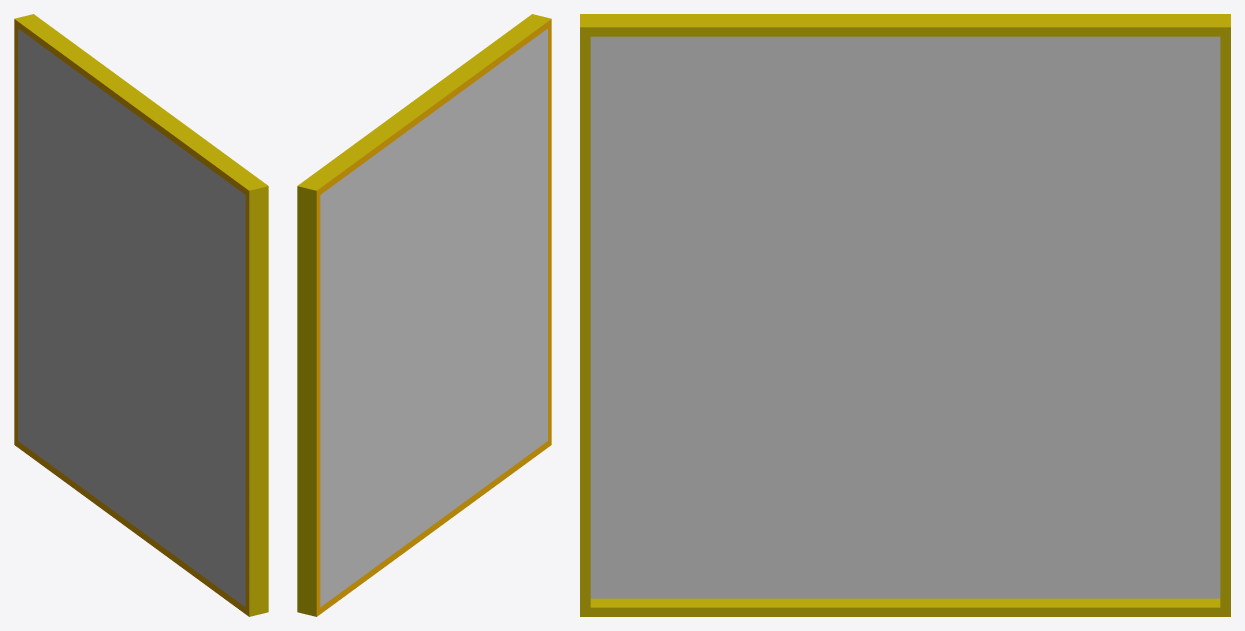
The model's file is window_5x5.dae.
The picture shows the model from 3 angles, left to right: view 1: azimuth 30°, elevation 25°; view 2: azimuth 150°, elevation 25°; view 3: azimuth 270°, elevation 25°; orthographic projection. The views are drawn at different scales.
Visible parts, largest first — view 1: Cube; view 2: Cube; view 3: Cube.
Part boxes in pixels (left/top/right/bottom): Cube: left=14, top=14, right=268, bottom=616; Cube: left=297, top=14, right=551, bottom=616; Cube: left=580, top=14, right=1230, bottom=616.
Size of the model in its own units: 0.06 by 1.25 by 1.25.
